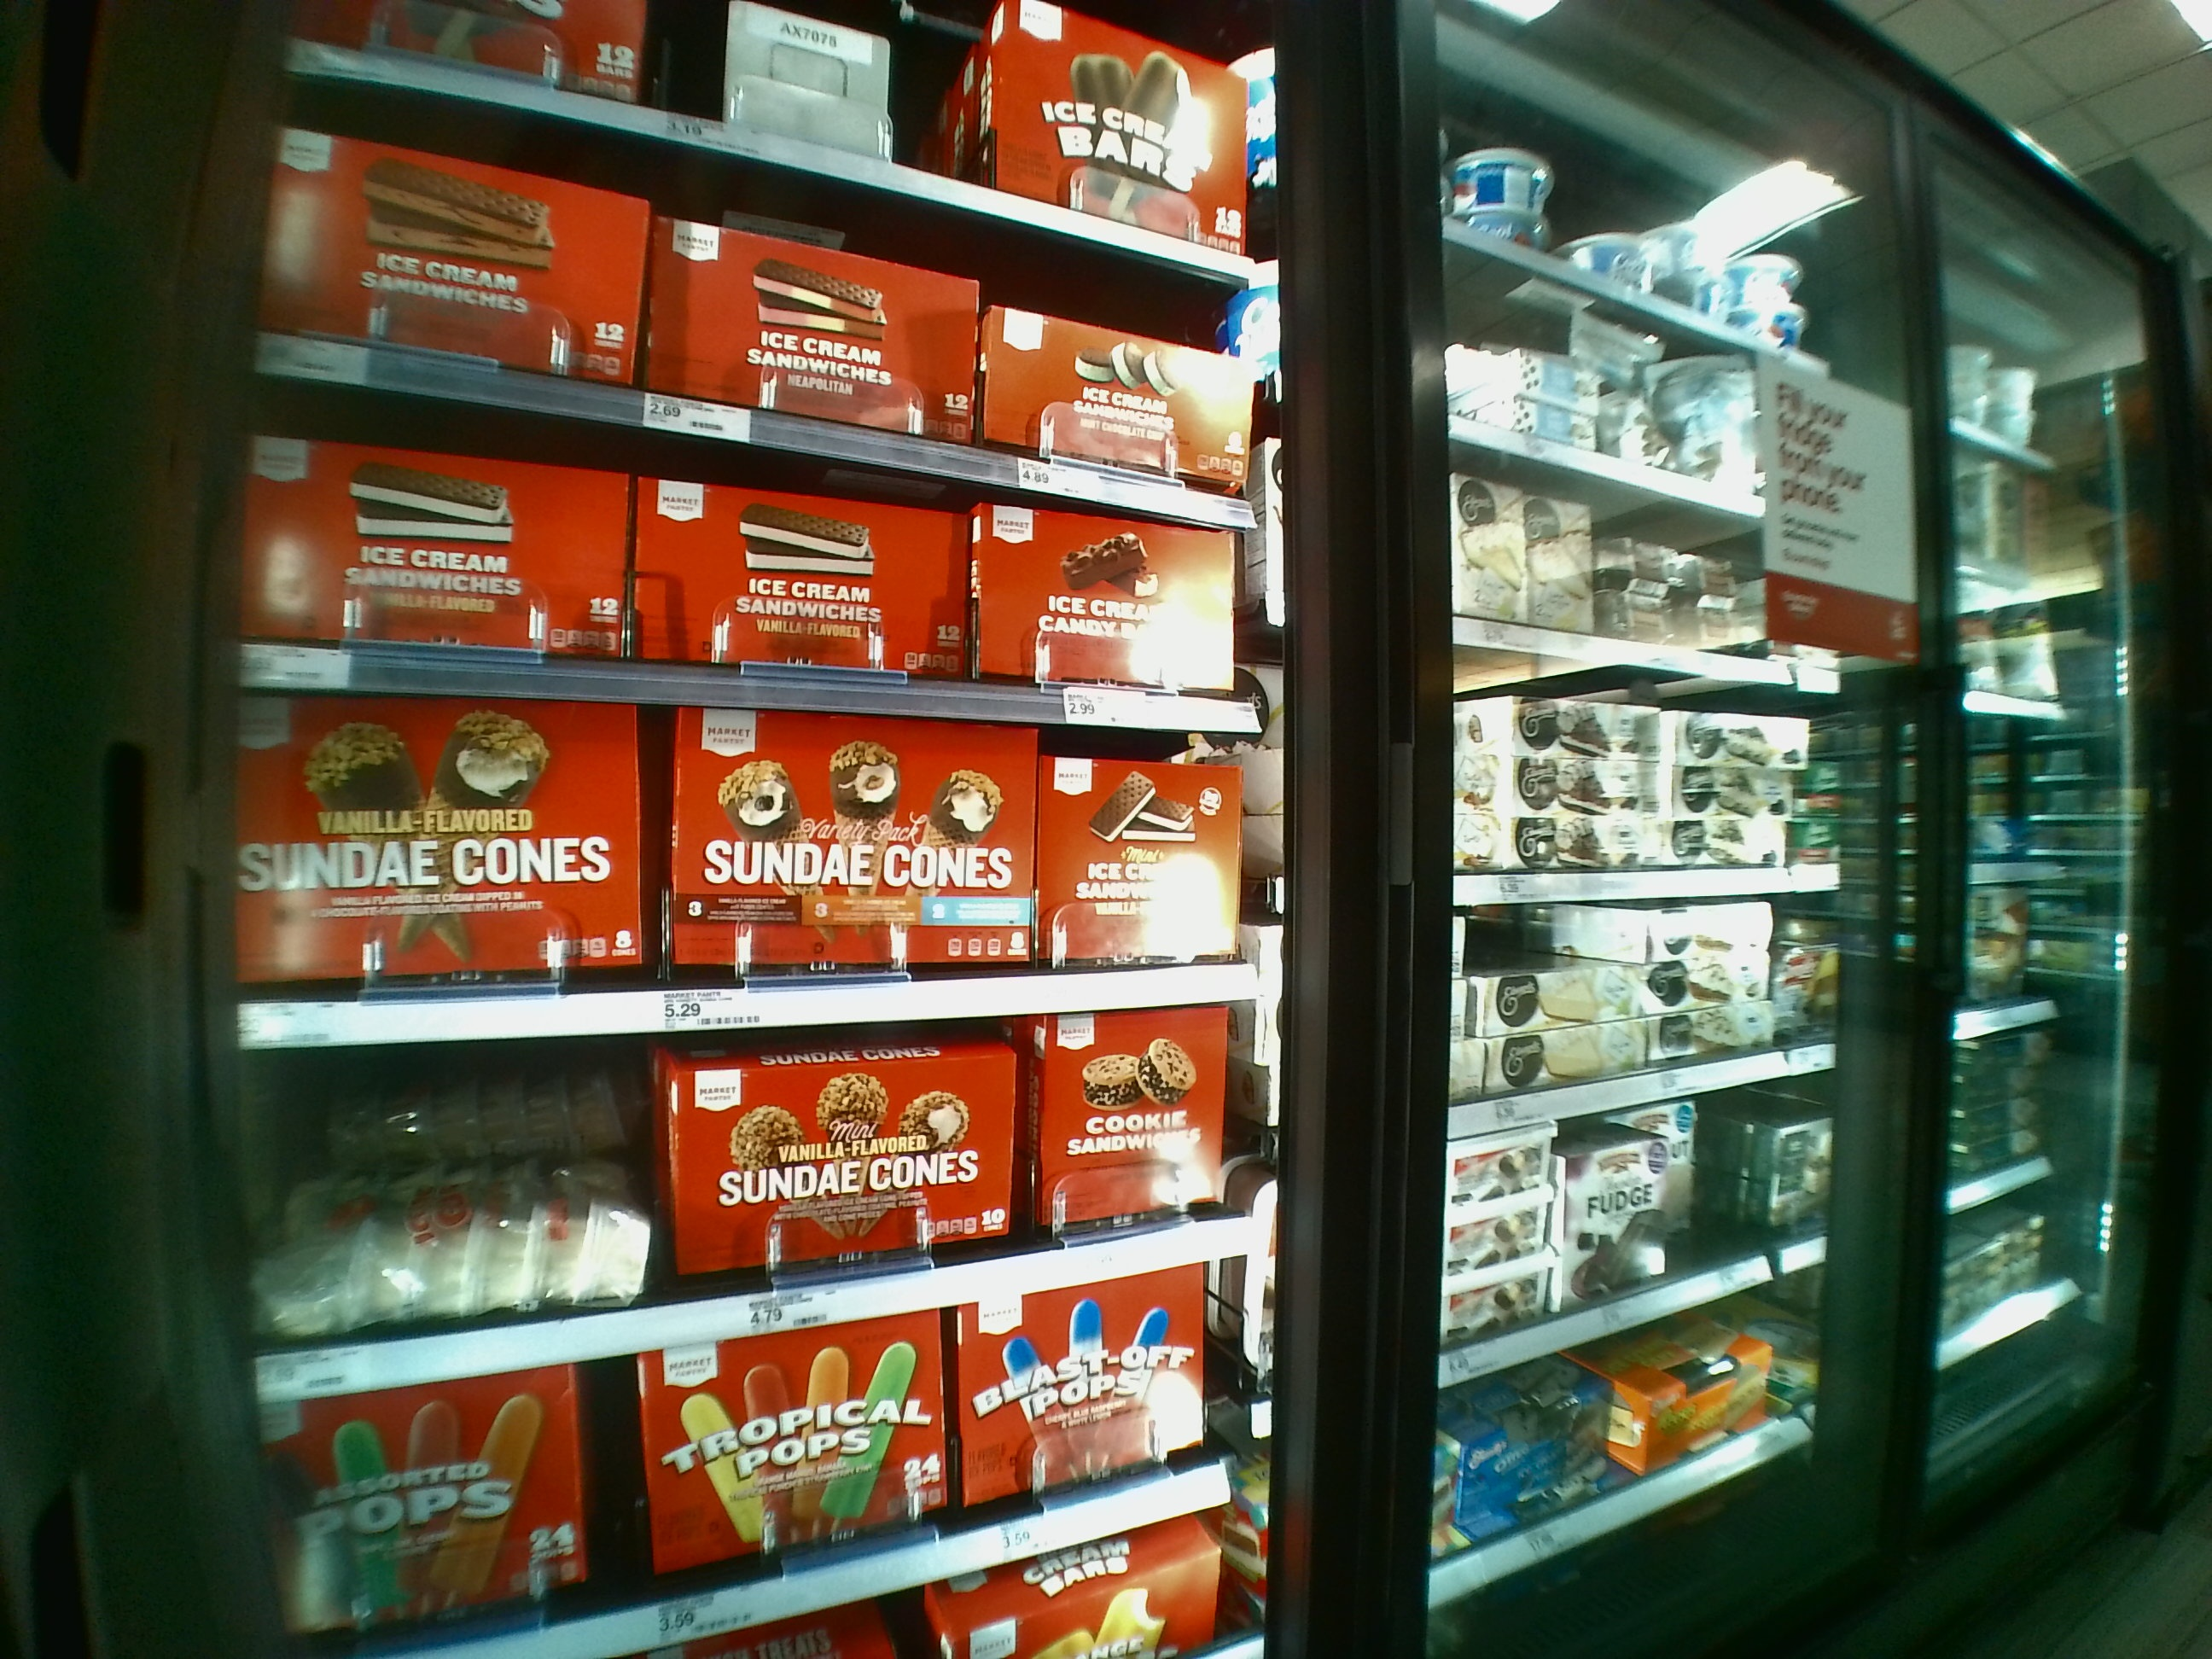shelf: (230, 676, 1266, 1019), (242, 1000, 1282, 1319), (275, 1265, 1226, 1605), (239, 188, 1252, 472), (235, 450, 1258, 708)
